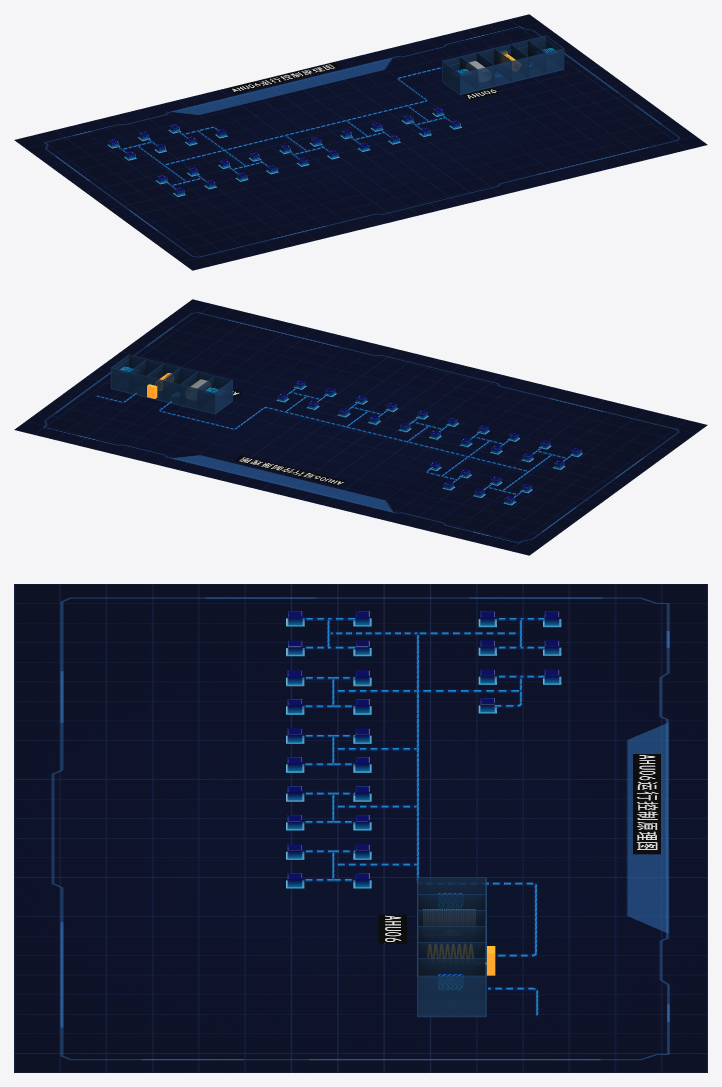
File: AHU06.FBX
3 views of the same model, one above another, from view 1: azimuth 30°, elevation 25°; view 2: azimuth 150°, elevation 25°; view 3: azimuth 270°, elevation 25° (orthographic). The views are drawn at different scales.
Parts seen in each view (by area): view 1: BG, MAU_Body, Outlet294, AHU06_Pipe, AHU06_Wind, RoomName; view 2: BG, MAU_Body, AHU06_Pipe, Outlet294, AHU06_Wind, RoomName; view 3: BG, MAU_Body, AHU06_Pipe, Outlet294, AHU06_Wind, RoomName, Coil.
Boxes of the visible parts, x1=… form: BG: x1=14, y1=14, x2=707, y2=270; MAU_Body: x1=442, y1=35, x2=564, y2=94; Outlet294: x1=107, y1=107, x2=461, y2=196; AHU06_Pipe: x1=115, y1=66, x2=451, y2=188; AHU06_Wind: x1=115, y1=67, x2=451, y2=188; RoomName: x1=228, y1=62, x2=500, y2=100; BG: x1=14, y1=299, x2=707, y2=555; MAU_Body: x1=110, y1=354, x2=232, y2=414; AHU06_Pipe: x1=95, y1=386, x2=574, y2=497; Outlet294: x1=276, y1=380, x2=582, y2=505; AHU06_Wind: x1=96, y1=386, x2=573, y2=497; RoomName: x1=216, y1=386, x2=346, y2=486; BG: x1=14, y1=584, x2=707, y2=1072; MAU_Body: x1=417, y1=877, x2=486, y2=1017; AHU06_Pipe: x1=302, y1=617, x2=544, y2=1016; Outlet294: x1=286, y1=611, x2=561, y2=888; AHU06_Wind: x1=305, y1=618, x2=544, y2=1015; RoomName: x1=378, y1=754, x2=660, y2=943; Coil: x1=423, y1=909, x2=475, y2=925.
Bounding box in the file's own units: 250 × 14.04 × 150.
